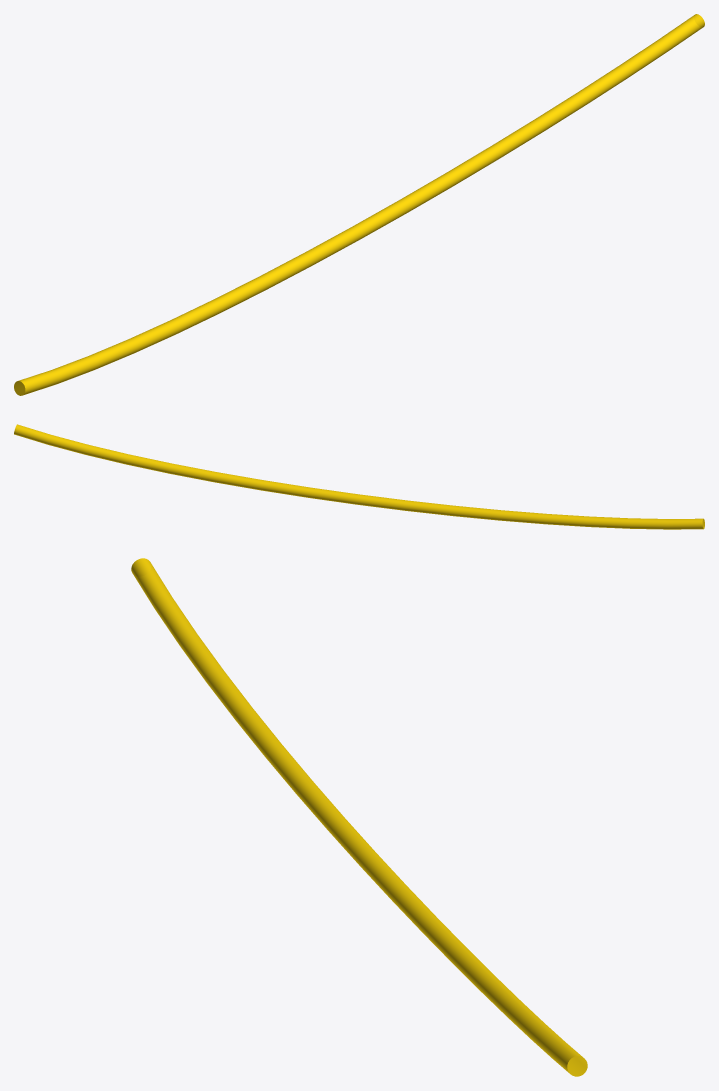
The model's file is Event_421115418_track_86.fbx.
3 renders of one model, top to bottom at view 1: azimuth 30°, elevation 25°; view 2: azimuth 150°, elevation 25°; view 3: azimuth 270°, elevation 25°, orthographic. The views are drawn at different scales.
Visible parts, largest first — view 1: Model; view 2: Model; view 3: Model.
Part boxes in pixels (bbox=[...]): Model: bbox=[14, 14, 704, 395]; Model: bbox=[14, 424, 704, 529]; Model: bbox=[131, 558, 587, 1076].
Size of the model in its own units: 2.54 by 0.2137 by 0.8615.
